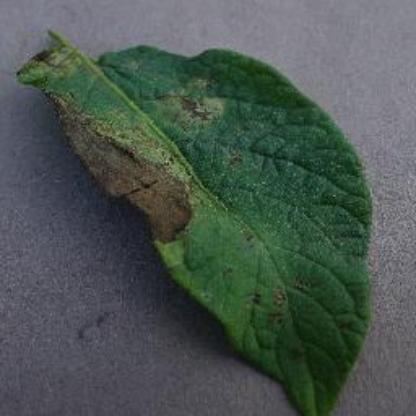Late-Blight: (11, 12, 391, 416)
